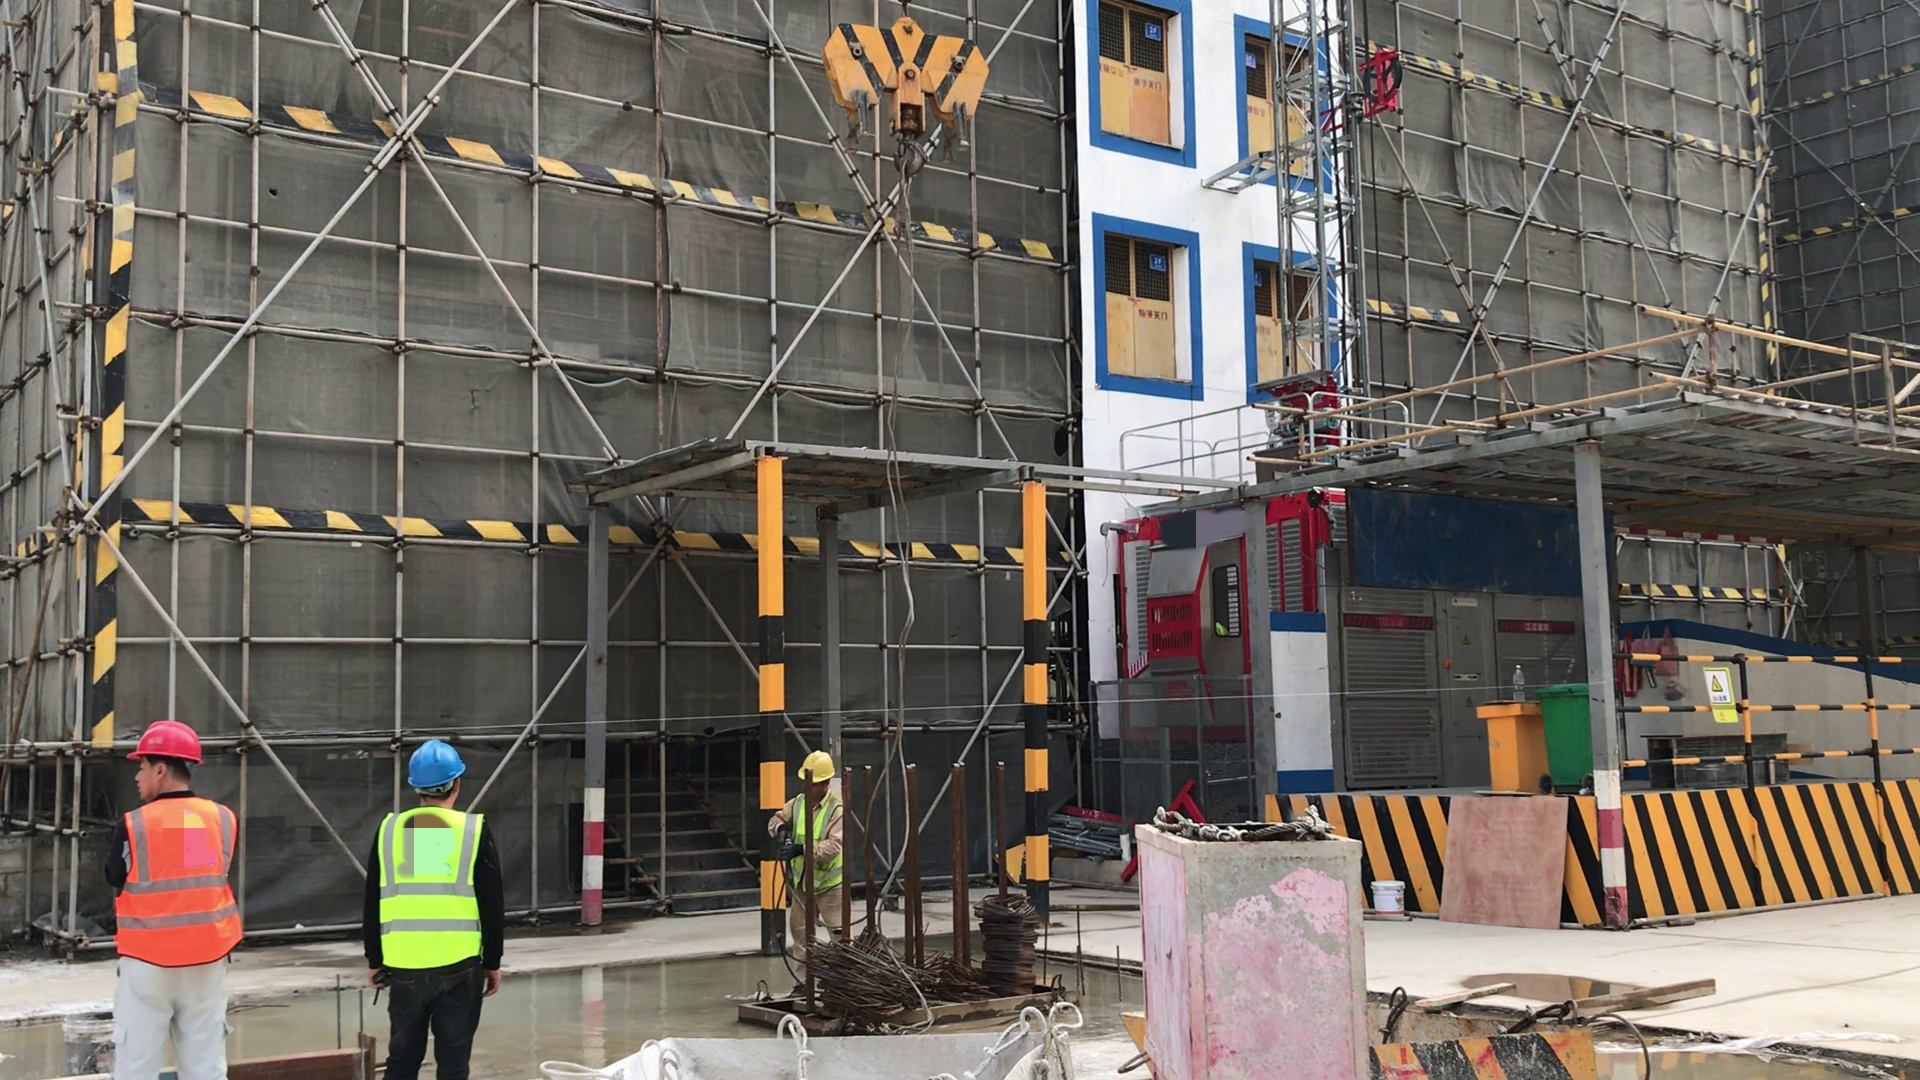helmet: (122, 721, 217, 778), (394, 736, 479, 794), (793, 747, 839, 789)
hook: (815, 9, 992, 190)
hopper: (558, 1000, 1096, 1079), (1362, 990, 1597, 1080)
person: (102, 720, 247, 1080), (364, 735, 503, 1080), (769, 749, 856, 957)
slogan: (1698, 657, 1748, 734)
vest: (119, 797, 249, 963), (374, 808, 491, 969), (790, 799, 842, 886)
